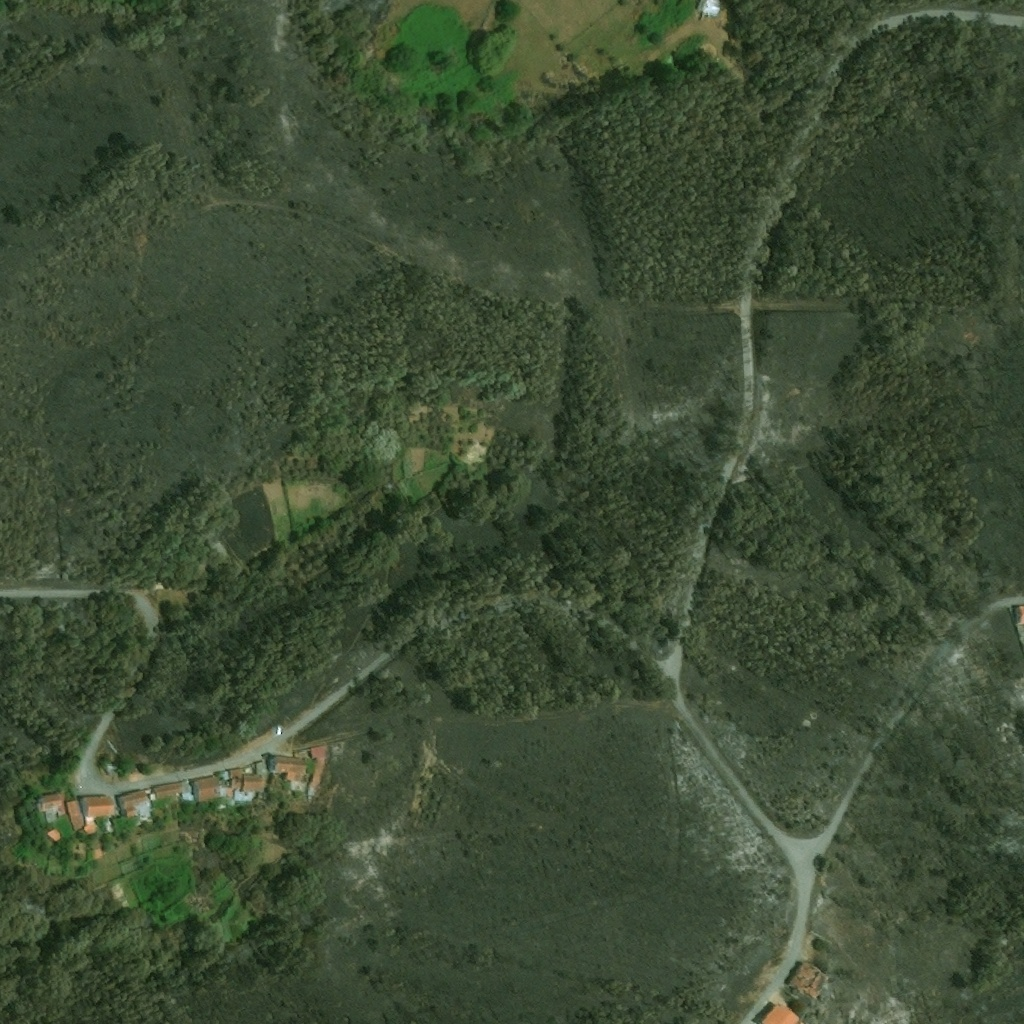0 no-damage: (154, 781, 194, 808), (761, 1000, 805, 1023), (270, 757, 308, 783), (117, 790, 151, 819), (193, 777, 228, 805), (219, 768, 245, 803), (83, 795, 116, 817), (695, 0, 725, 21), (67, 799, 87, 830), (243, 773, 264, 800), (39, 793, 66, 812), (48, 826, 65, 842), (101, 820, 116, 834), (312, 747, 327, 760)
2 major-damage: (789, 961, 832, 1004)
